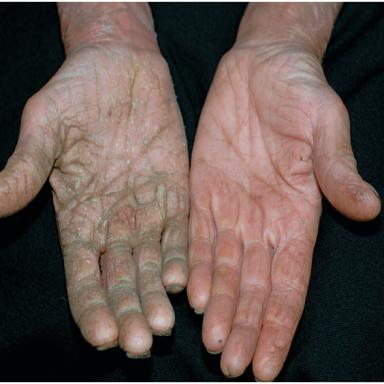eczema: (0, 48, 189, 356)
